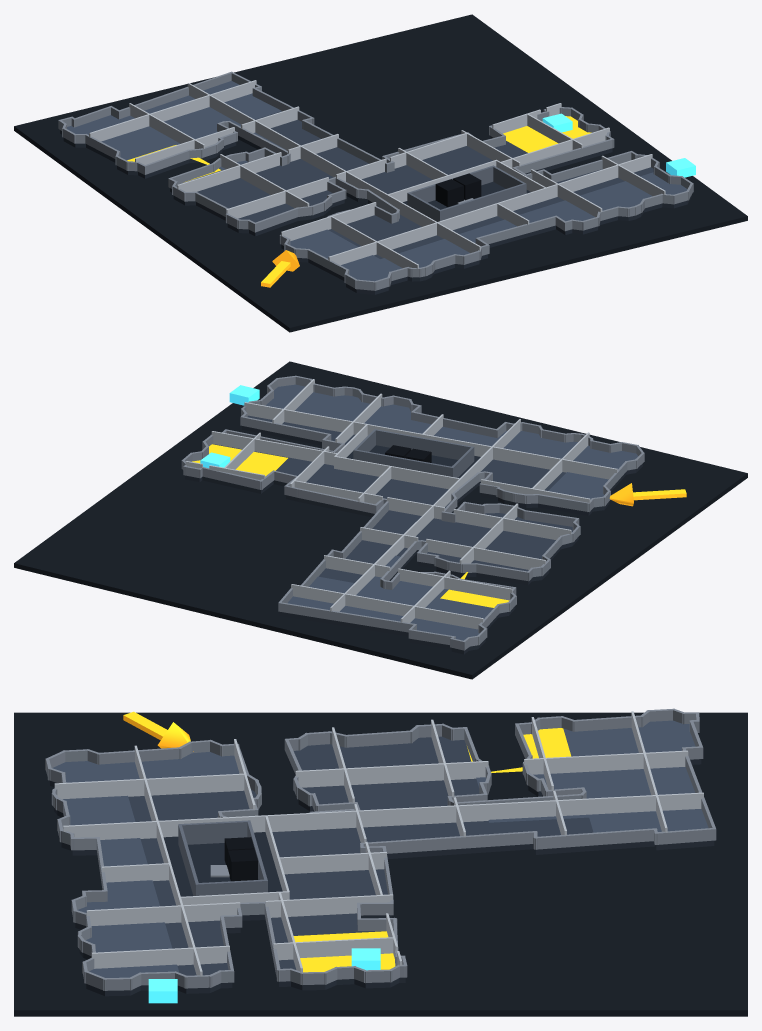
The picture shows the model from 3 angles, top to bottom: view 1: azimuth 30°, elevation 25°; view 2: azimuth 150°, elevation 25°; view 3: azimuth 270°, elevation 25°; orthographic projection. The views are drawn at different scales.
Parts seen in each view (by area): view 1: FireSight 400 Duboce Ave floor 1; view 2: FireSight 400 Duboce Ave floor 1; view 3: FireSight 400 Duboce Ave floor 1.
Part boxes in pixels (x1,y1,x2,y2): FireSight 400 Duboce Ave floor 1: [14, 14, 747, 332]; FireSight 400 Duboce Ave floor 1: [14, 361, 747, 679]; FireSight 400 Duboce Ave floor 1: [14, 708, 747, 1016].
Size of the model in its own units: 0.6302 by 0.037 by 0.6567.
